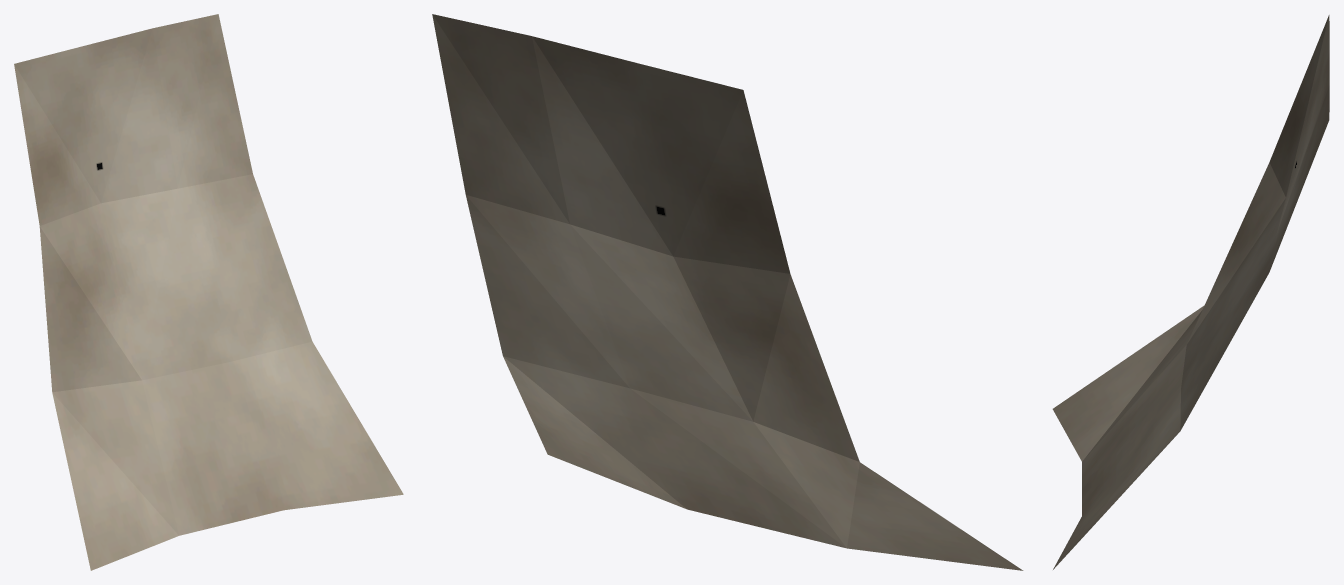
The model's file is web_03.fbx.
The picture shows the model from 3 angles, left to right: view 1: azimuth 30°, elevation 25°; view 2: azimuth 150°, elevation 25°; view 3: azimuth 270°, elevation 25°; orthographic projection. The views are drawn at different scales.
Visible parts, largest first — view 1: obj0.176; view 2: obj0.176; view 3: obj0.176.
Boxes of the visible parts, x1=… form: obj0.176: x1=14, y1=14, x2=403, y2=570; obj0.176: x1=432, y1=14, x2=1023, y2=570; obj0.176: x1=1052, y1=15, x2=1329, y2=569.
Size of the model in its own units: 4.59 by 5.61 by 3.32.
